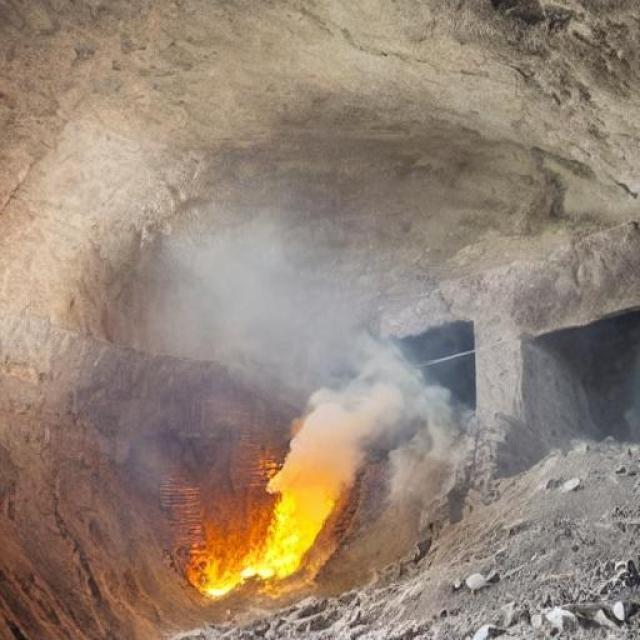Fire: (153, 492, 363, 599)
Smoke: (157, 224, 457, 481)
